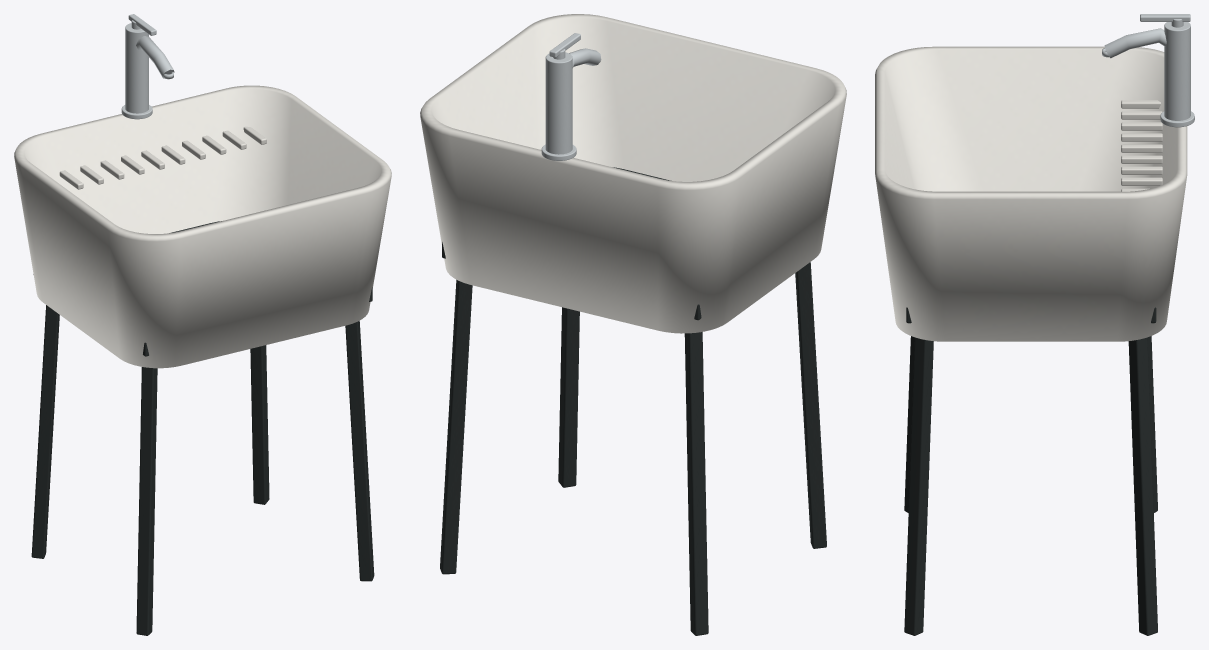
File: utility_laundry_tub.glb
The picture shows the model from 3 angles, left to right: view 1: azimuth 30°, elevation 25°; view 2: azimuth 150°, elevation 25°; view 3: azimuth 270°, elevation 25°; orthographic projection. The views are drawn at different scales.
Parts seen in each view (by area): view 1: Utility | deep composite tub, Utility | steel support leg, Utility | steel support leg.002, Utility | steel support leg.001, Utility | steel support leg.003, Mixer | cartridge body, Mixer | curved spout; view 2: Utility | deep composite tub, Utility | steel support leg.001, Utility | steel support leg.003, Utility | steel support leg, Utility | steel support leg.002, Mixer | cartridge body; view 3: Utility | deep composite tub, Utility | steel support leg.002, Utility | steel support leg.003, Mixer | cartridge body, Mixer | curved spout, Utility | steel support leg, Utility | steel support leg.001.
Boxes of the visible parts, box(x1,y1,x2,y2) form: Utility | deep composite tub: box(14, 85, 391, 368); Utility | steel support leg: box(136, 367, 157, 635); Utility | steel support leg.002: box(345, 321, 374, 581); Utility | steel support leg.001: box(31, 305, 59, 558); Utility | steel support leg.003: box(250, 345, 269, 504); Mixer | cartridge body: box(125, 23, 148, 113); Mixer | curved spout: box(136, 36, 174, 78); Utility | deep composite tub: box(420, 14, 846, 333); Utility | steel support leg.001: box(684, 332, 708, 635); Utility | steel support leg.003: box(440, 279, 472, 574); Utility | steel support leg: box(795, 262, 826, 548); Utility | steel support leg.002: box(558, 307, 579, 487); Mixer | cartridge body: box(545, 52, 572, 154); Utility | deep composite tub: box(875, 46, 1187, 341); Utility | steel support leg.002: box(904, 337, 933, 635); Utility | steel support leg.003: box(1128, 337, 1157, 635); Mixer | cartridge body: box(1164, 22, 1190, 120); Mixer | curved spout: box(1104, 28, 1166, 58); Utility | steel support leg: box(904, 336, 914, 512); Utility | steel support leg.001: box(1147, 336, 1157, 512).
Size of the model in its own units: 0.638 by 1.11 by 0.5745.
3 materials, 3 textured.
